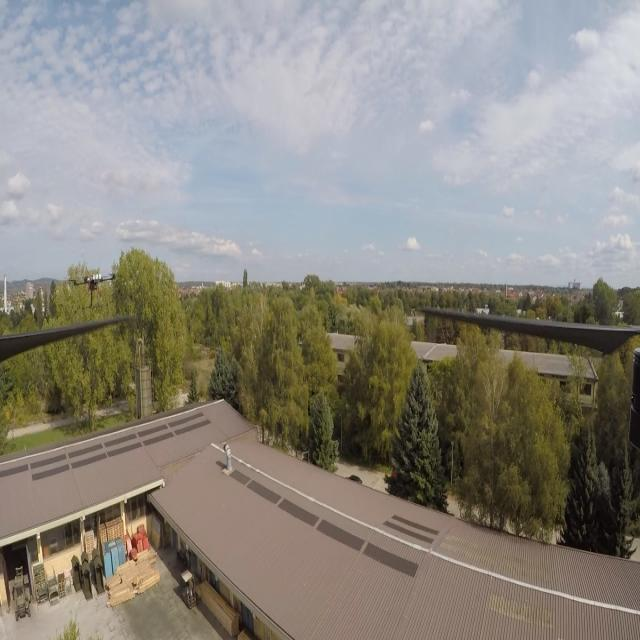UAV: (66, 269, 119, 311)
